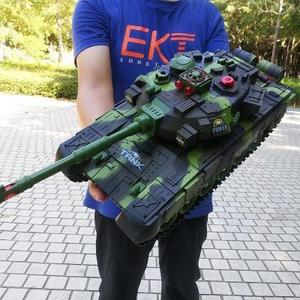Battle Tank: (82, 61, 293, 200)
